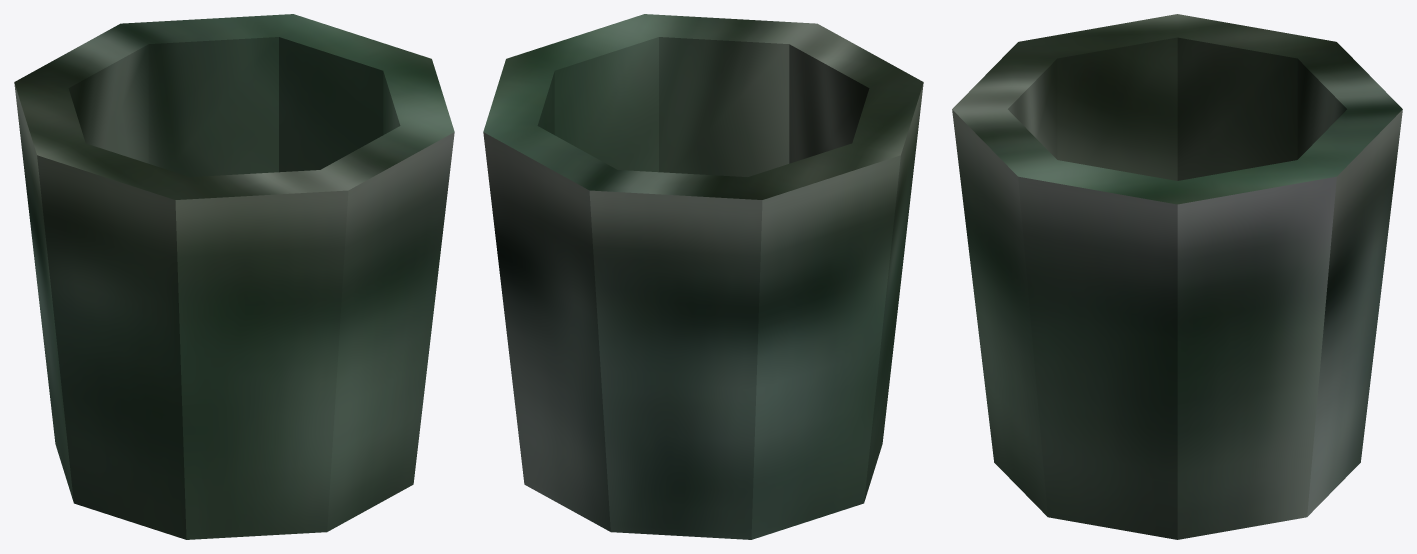
File: bin.fbx
The picture shows the model from 3 angles, left to right: view 1: azimuth 30°, elevation 25°; view 2: azimuth 150°, elevation 25°; view 3: azimuth 270°, elevation 25°; orthographic projection.
Visible parts, largest first — view 1: bin; view 2: bin; view 3: bin.
Boxes of the visible parts, <box> form: bin: <box>14,14,454,539</box>; bin: <box>483,14,923,539</box>; bin: <box>952,14,1402,539</box>.
Size of the model in its own units: 0.5866 by 0.5071 by 0.5866.
